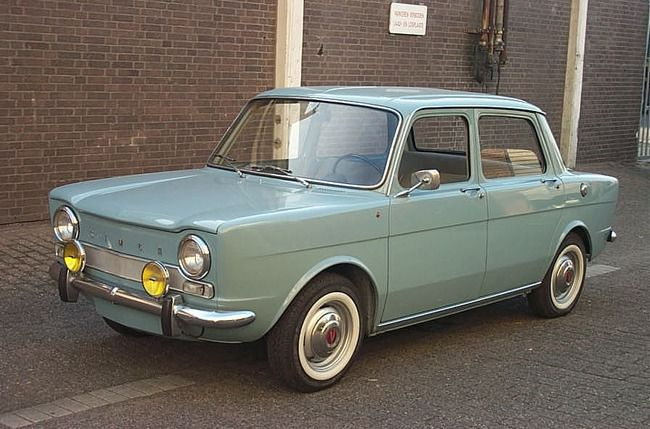car: (36, 56, 624, 394)
